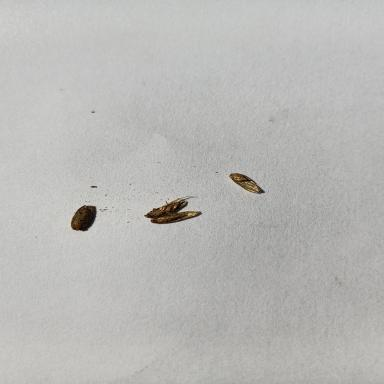pbw: (139, 196, 189, 220), (224, 170, 262, 194), (70, 205, 99, 231), (153, 211, 199, 225)
